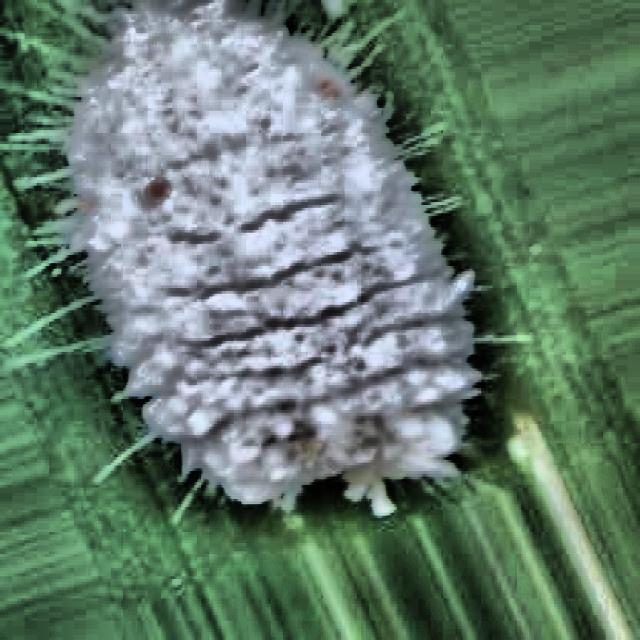Mealy-bug: (28, 3, 545, 618)
